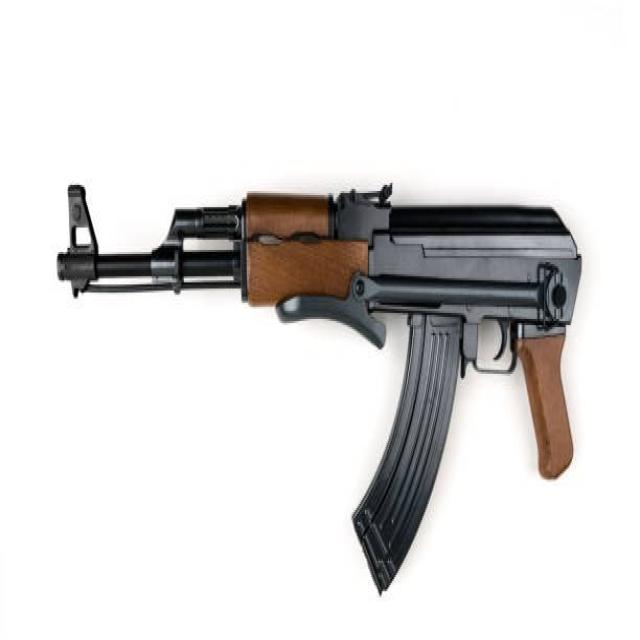rifle: (52, 162, 585, 608)
